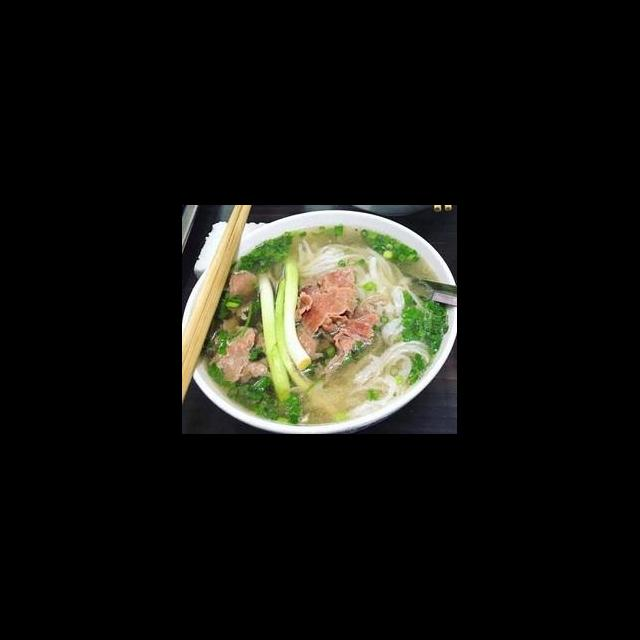banh pho: (343, 308, 432, 418), (352, 242, 426, 318), (296, 236, 366, 282)
pho bo: (200, 228, 455, 434)
thit bo: (292, 266, 361, 364), (318, 308, 386, 364), (206, 314, 256, 386), (223, 270, 260, 322)
